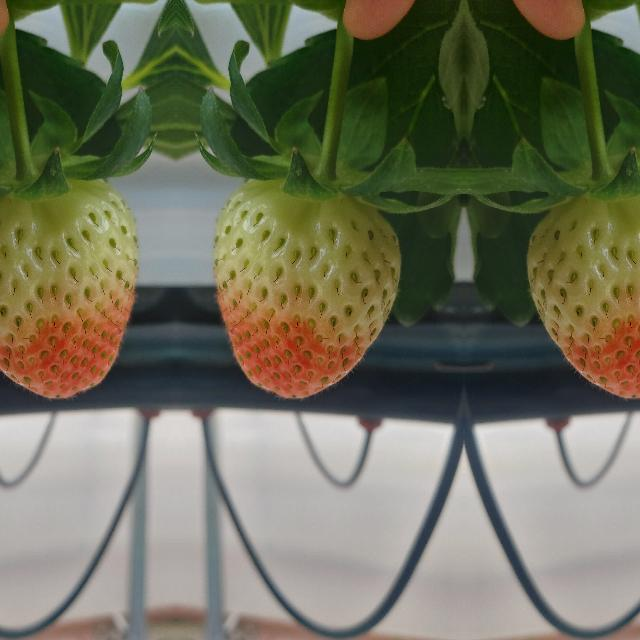Health_50: (213, 178, 401, 402), (0, 178, 137, 401), (525, 178, 640, 401)
